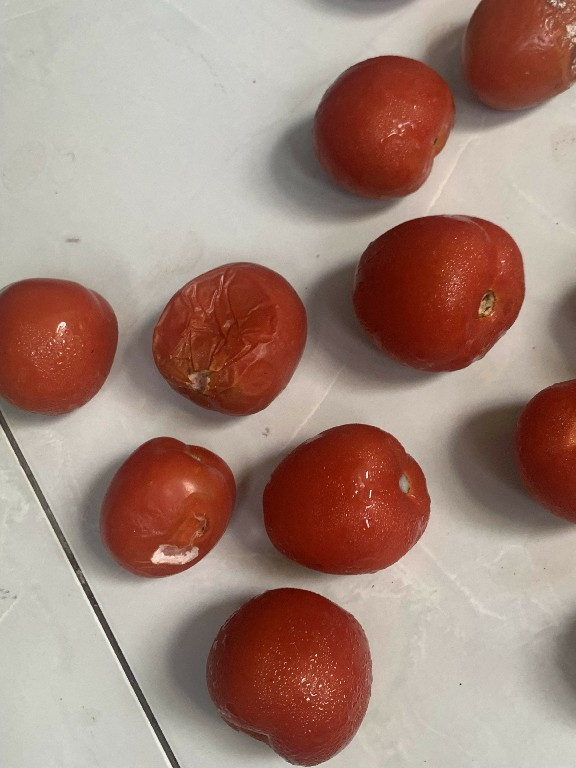NG: (144, 256, 312, 420), (97, 433, 241, 581), (454, 1, 575, 117)
OK: (339, 205, 531, 376), (201, 582, 375, 767), (257, 415, 434, 578), (310, 50, 458, 201), (0, 273, 126, 420)
